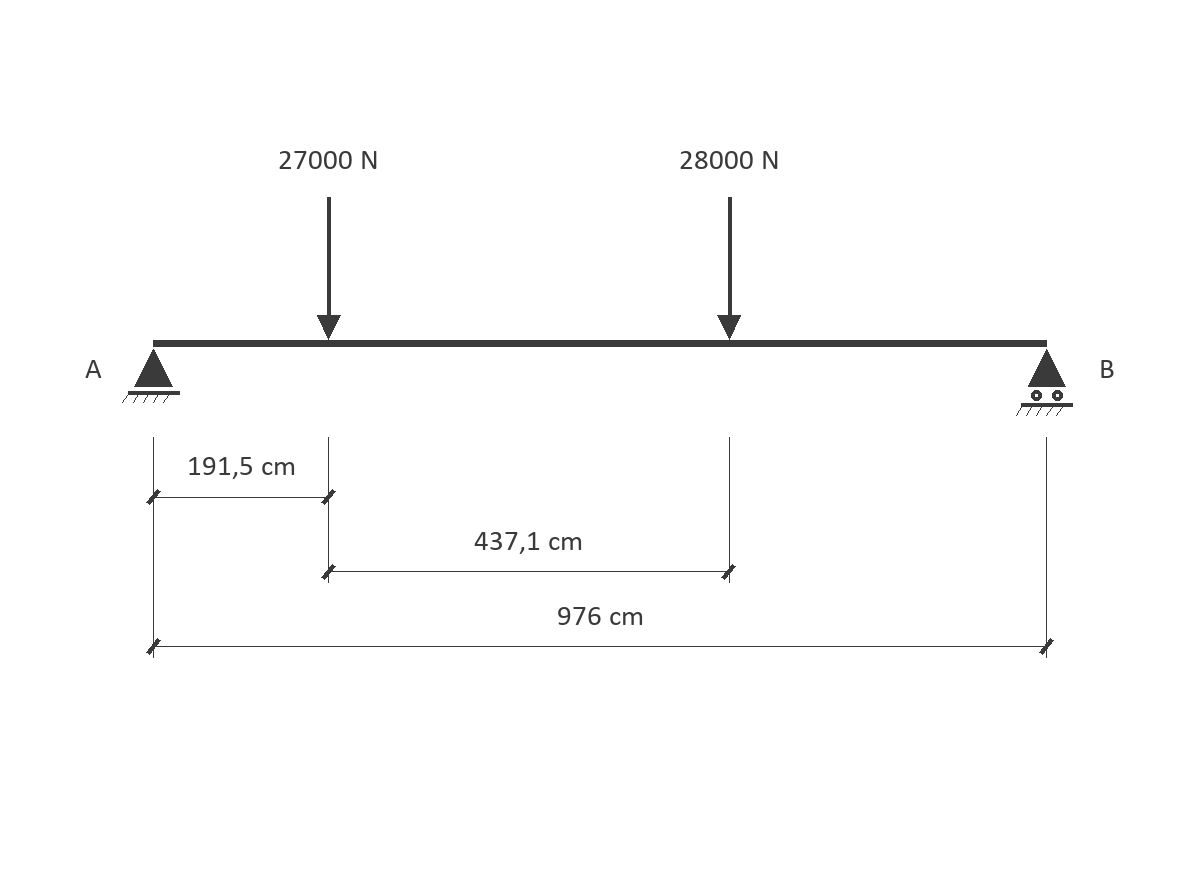pin_support: (122, 349, 180, 403)
point_load: (317, 197, 341, 340), (717, 197, 741, 340)
roller_support: (1016, 349, 1073, 416)
